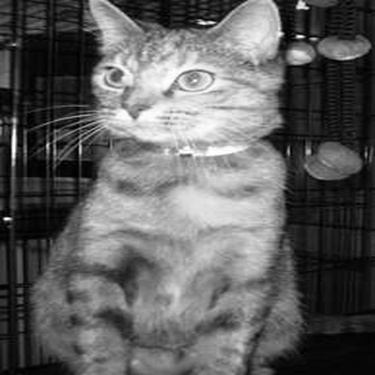cat: (31, 1, 305, 368)
